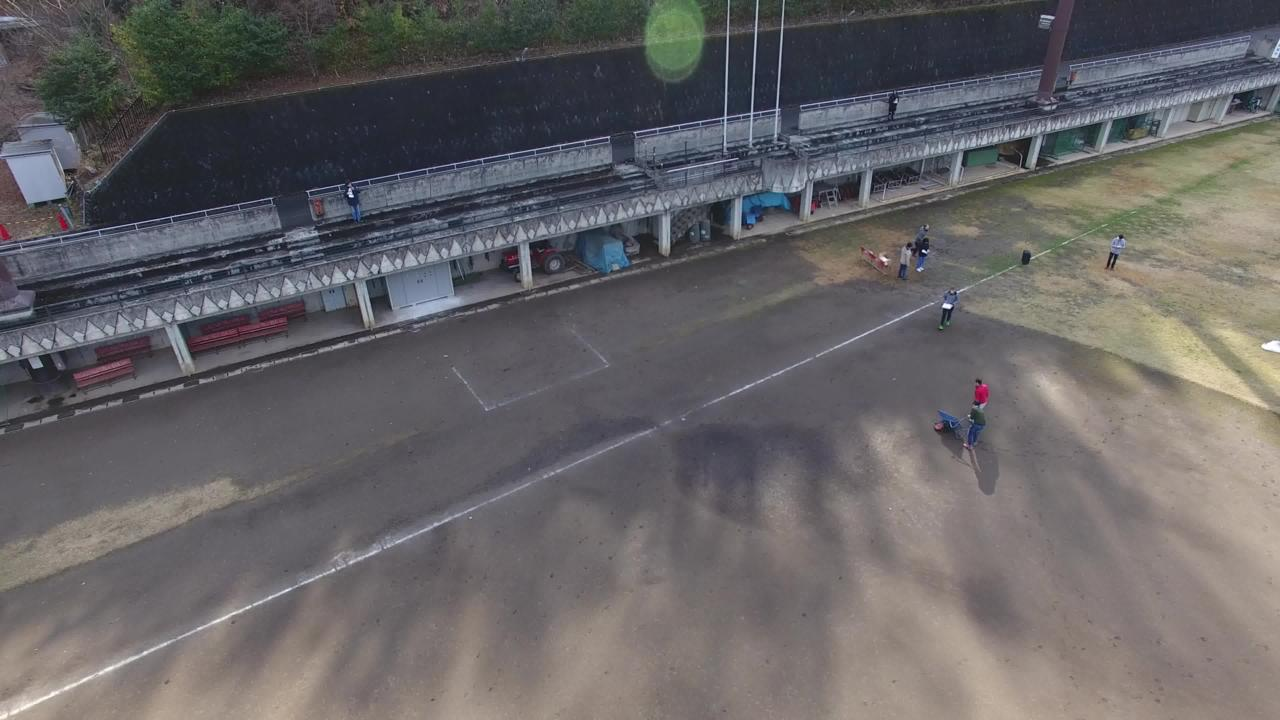person: (337, 171, 368, 221), (960, 366, 991, 416), (958, 398, 989, 448), (936, 274, 967, 324), (1103, 223, 1134, 273), (879, 86, 910, 136), (907, 218, 938, 268), (884, 233, 915, 283)
